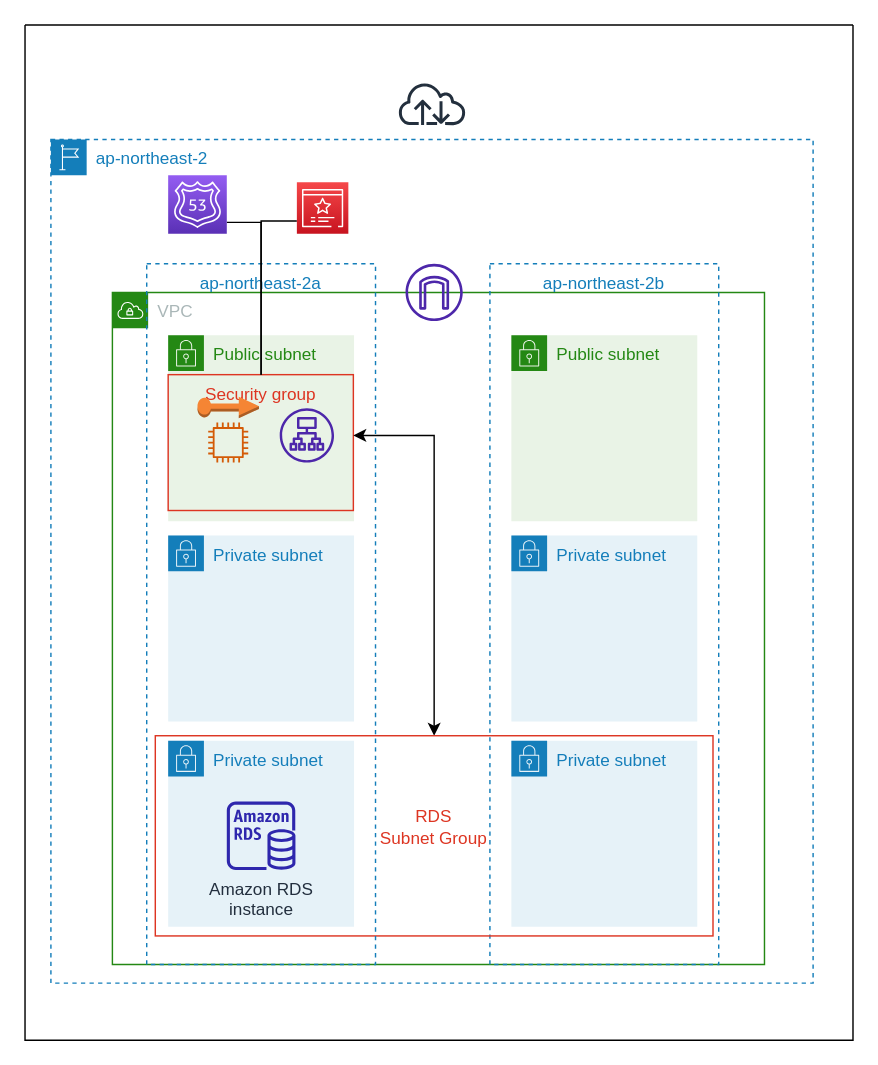
Image size: 878x1065. Some labels were removed from this diagram. The centre of each missing label's shape, as x and y in pixels:
"ACM (SSL)" goes at (x=321, y=207).
"ALB" goes at (x=306, y=435).
"Internet" goes at (x=431, y=103).
"ppldv-ec2" goes at (x=227, y=442).
"ppldv-igw" goes at (x=433, y=291).
"Route 53" goes at (x=197, y=204).
